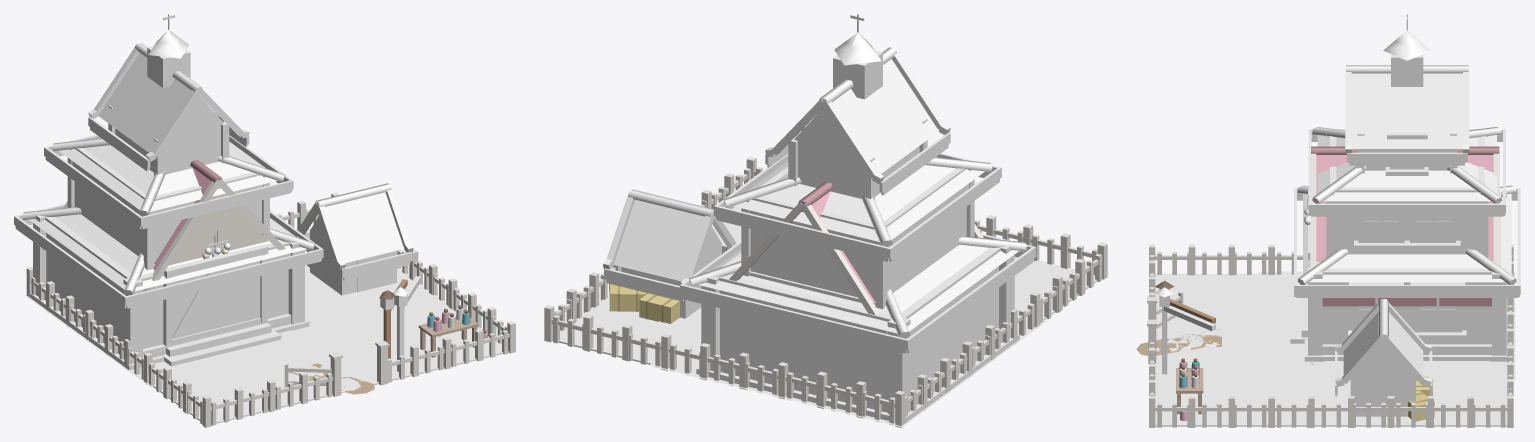
The model's file is nursery_barn_1.glb.
3 views of the same model, side by side, from view 1: azimuth 30°, elevation 25°; view 2: azimuth 150°, elevation 25°; view 3: azimuth 270°, elevation 25° (orthographic). The views are drawn at different scales.
Parts seen in each view (by area): view 1: when_plan_true, body6, nursery_barn_1; view 2: when_plan_true, body6, nursery_barn_1; view 3: when_plan_true, body6, nursery_barn_1.
Part boxes in pixels (bbox=[...]): when_plan_true: bbox=[14, 14, 421, 393]; body6: bbox=[26, 159, 515, 427]; nursery_barn_1: bbox=[25, 267, 351, 387]; when_plan_true: bbox=[594, 14, 1046, 426]; body6: bbox=[544, 156, 1107, 427]; nursery_barn_1: bbox=[655, 298, 1040, 426]; when_plan_true: bbox=[1155, 14, 1520, 424]; body6: bbox=[1136, 146, 1513, 427]; nursery_barn_1: bbox=[1232, 271, 1515, 389].
Bounding box in the file's own units: 2.73 × 2.45 × 2.8.
